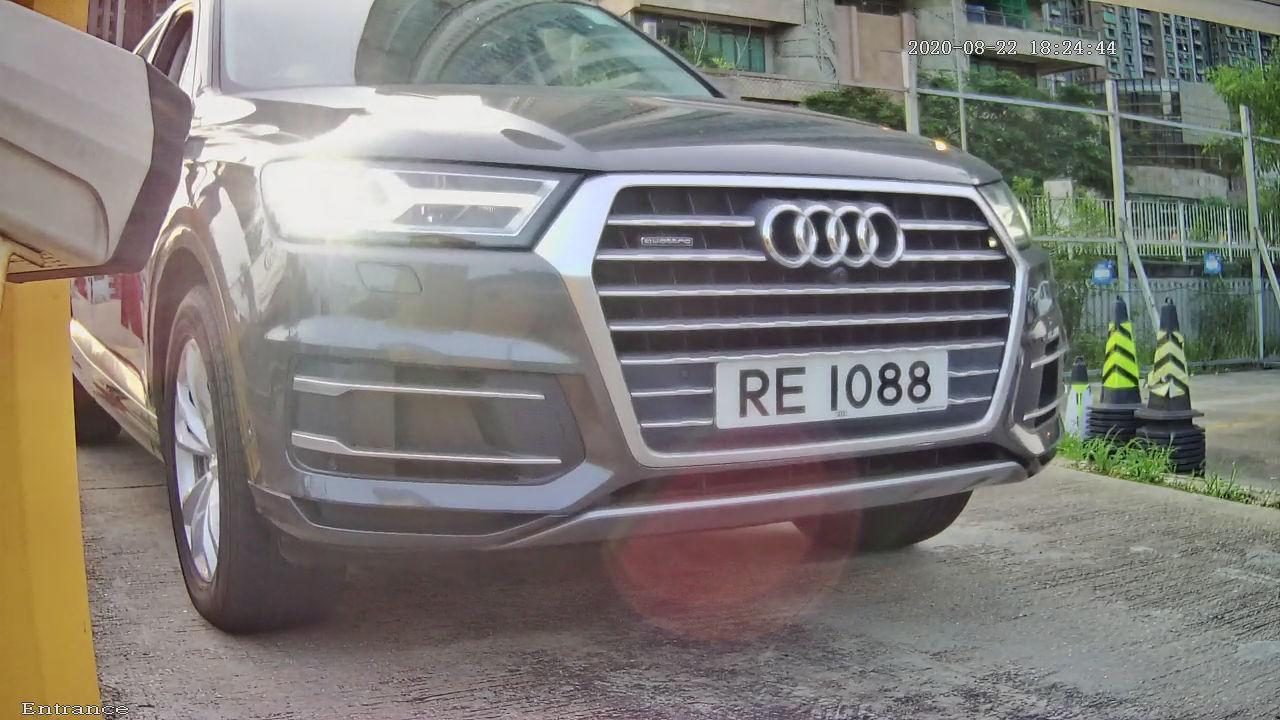Car: (58, 4, 1121, 634)
License Plate: (692, 332, 966, 441)
